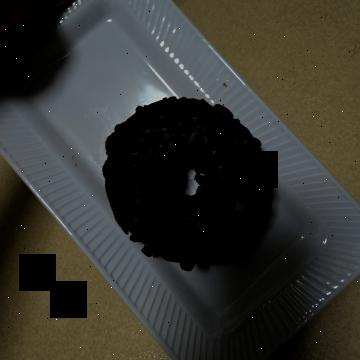doughnut: (84, 87, 274, 269)
